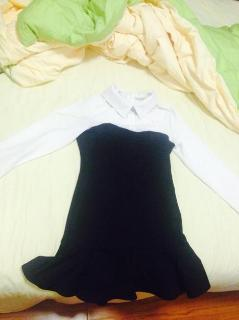long sleeve dress: (0, 83, 239, 305)
